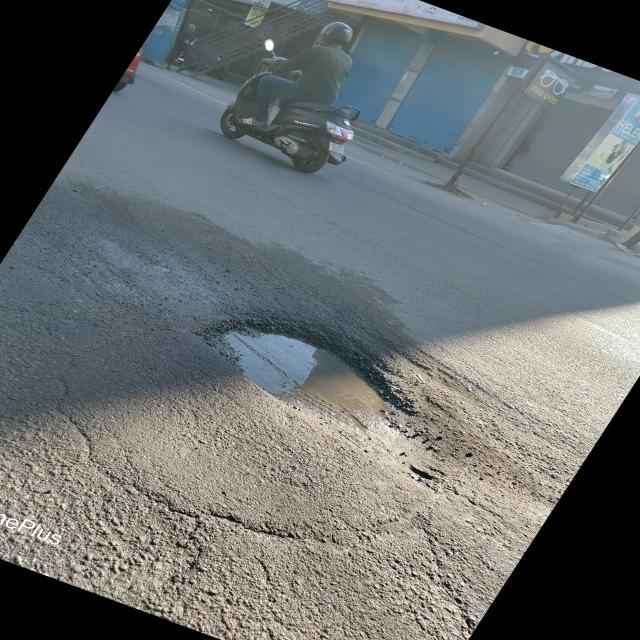Puddle pothole: (202, 306, 429, 430)
